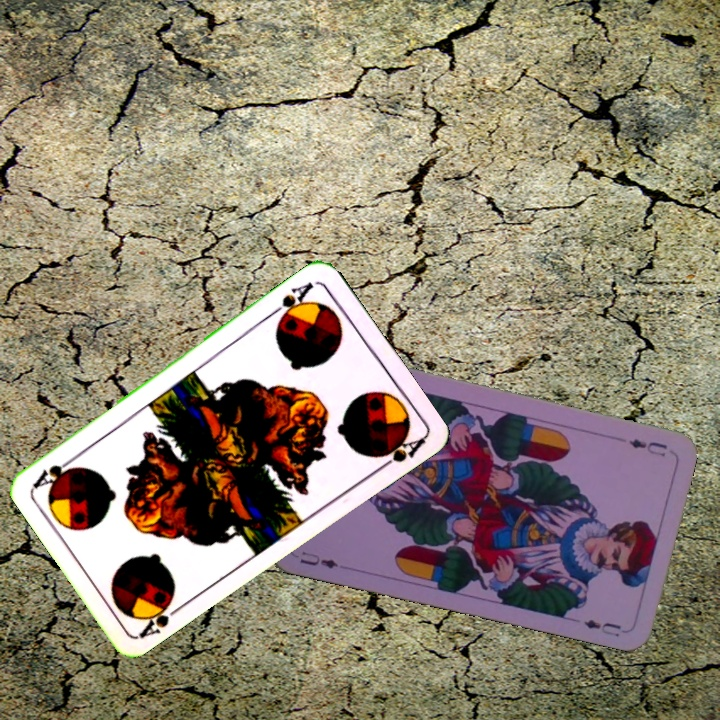EU: (624, 434, 670, 460), (296, 547, 341, 572)
SA: (134, 590, 187, 641), (267, 277, 317, 326)
